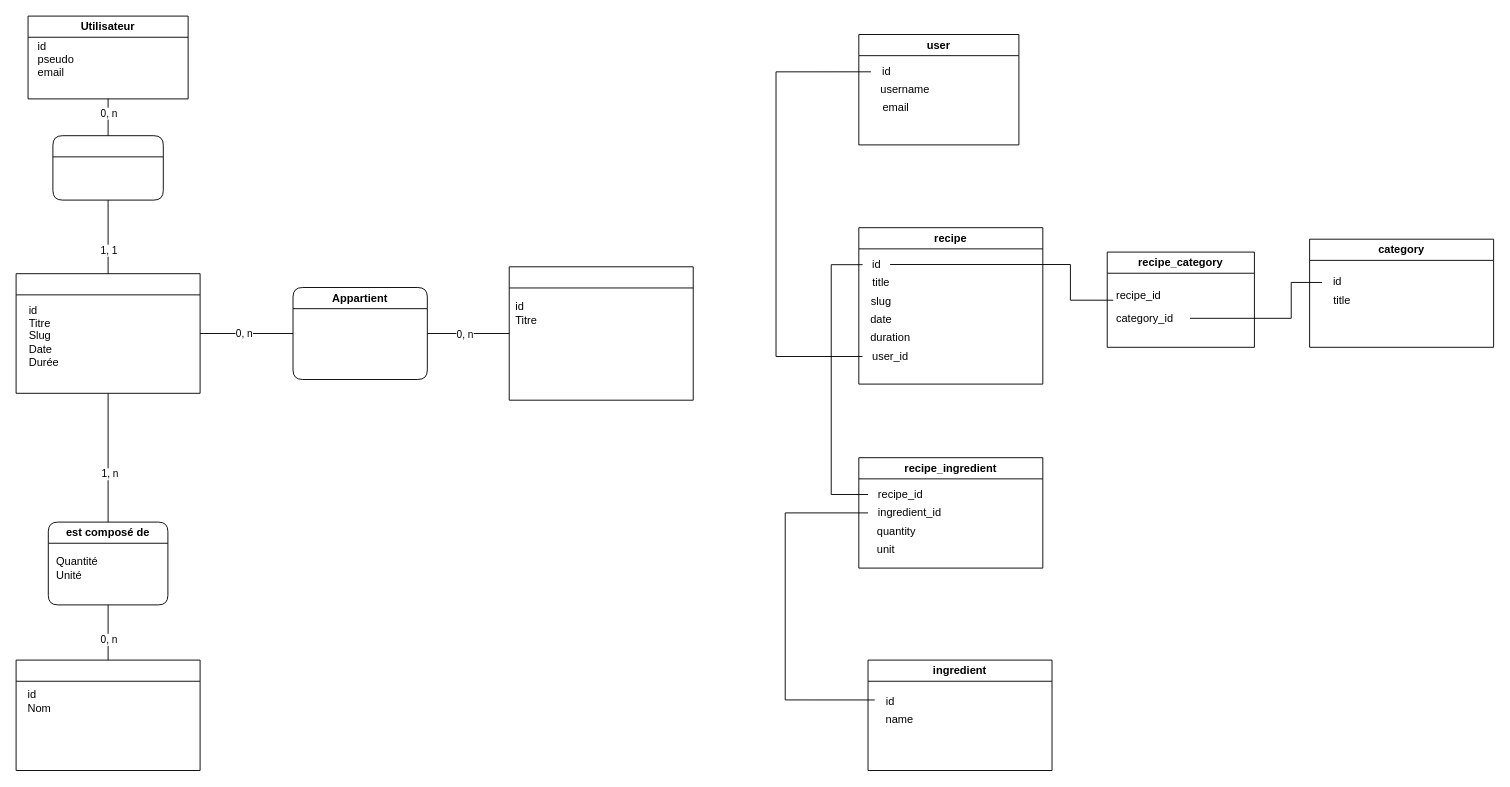
Image size: 1510x787. Some labels were removed from this diagram. The box of each missing label's shape, as (x1, y1, x2, y2) in pixels:
Categorie: (508, 266, 693, 400)
créé: (52, 135, 163, 200)
Ingrédient: (15, 659, 200, 770)
Recette: (15, 273, 200, 393)
